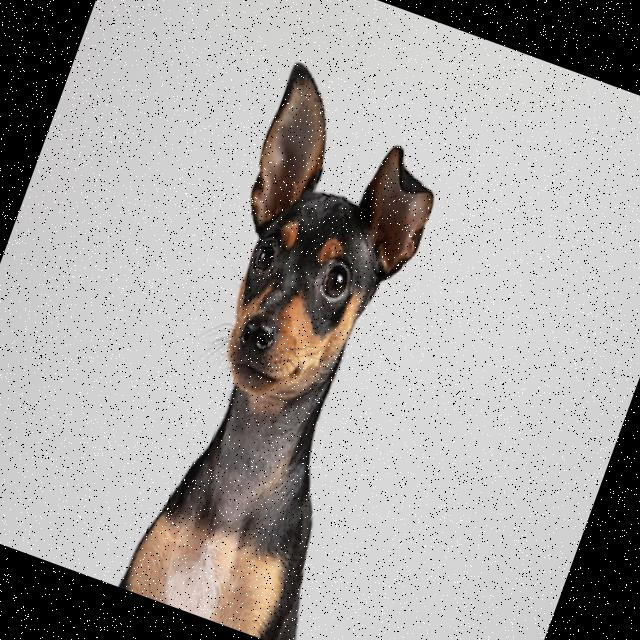Dog: (104, 60, 485, 640)
